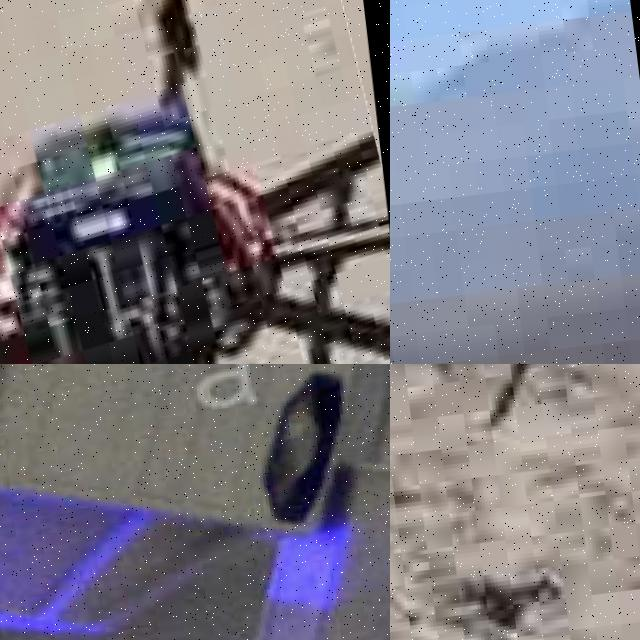drone: (0, 0, 390, 364)
